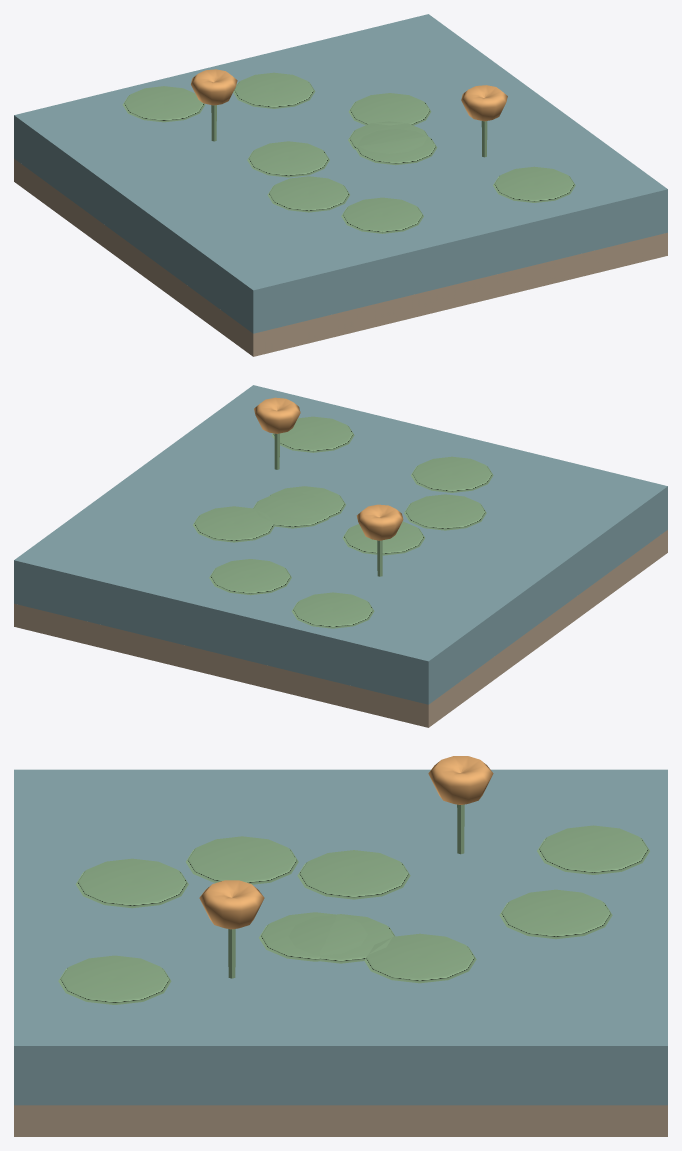
The model's file is korean-hanok-village-and-street-pond-water-module-4e3f2baa__38091.glb.
The picture shows the model from 3 angles, top to bottom: view 1: azimuth 30°, elevation 25°; view 2: azimuth 150°, elevation 25°; view 3: azimuth 270°, elevation 25°; orthographic projection. The views are drawn at different scales.
Visible parts, largest first — view 1: pond-water-module; view 2: pond-water-module; view 3: pond-water-module.
Part boxes in pixels (<box>): pond-water-module: <box>14,14,667,356</box>; pond-water-module: <box>14,385,667,727</box>; pond-water-module: <box>14,756,667,1136</box>.
Bounding box in the file's own units: 3 × 0.9 × 3.
